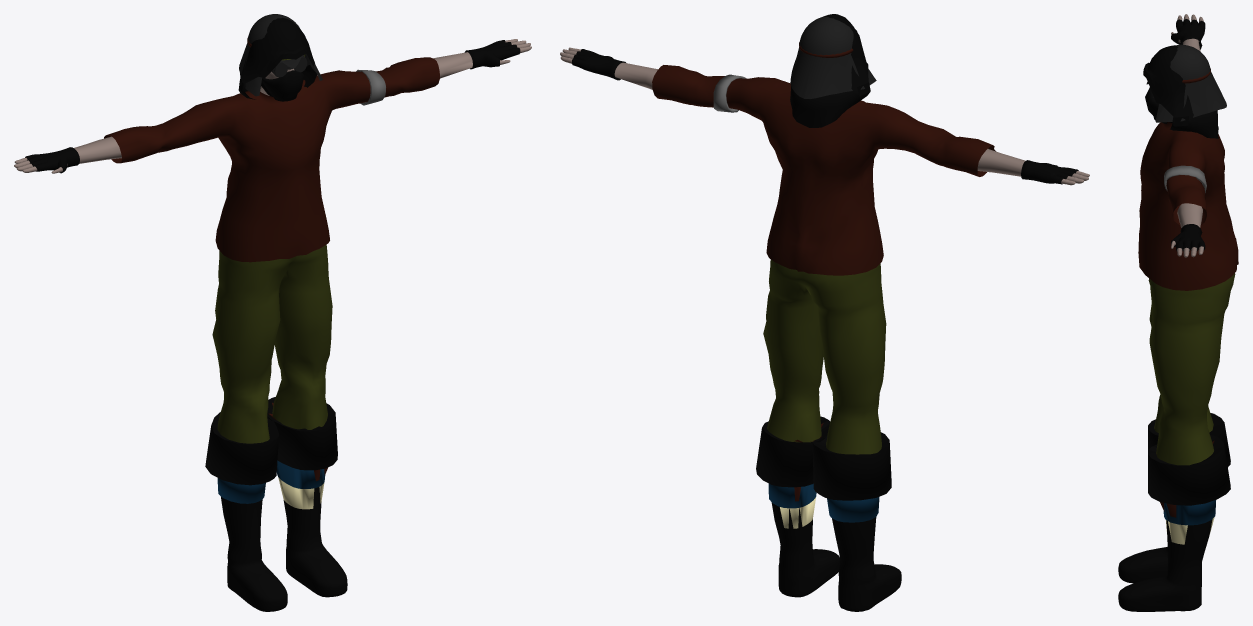
Rendered from character_model5_customization.fbx.
3 views of the same model, side by side, from view 1: azimuth 30°, elevation 25°; view 2: azimuth 150°, elevation 25°; view 3: azimuth 270°, elevation 25° (orthographic). The views are drawn at different scales.
Parts seen in each view (by area): view 1: Shirt, Pants, Boots, Boots.2, Hood, Boots.3, Body.001, Gloves, Hat.002, Mask; view 2: Shirt, Pants, Boots, Boots.2, Hat.002, Hood, Boots.3, Body.001, Gloves; view 3: Shirt, Pants, Boots, Boots.2, Hood, Hat.002, Boots.3, Gloves, Body.001, Shirt.001, Mask.
Part boxes in pixels (left/top/right/bottom): Shirt: left=104, top=57, right=439, bottom=262; Pants: left=212, top=244, right=332, bottom=443; Boots: left=221, top=487, right=347, bottom=611; Boots.2: left=205, top=397, right=337, bottom=485; Hood: left=238, top=17, right=316, bottom=99; Boots.3: left=217, top=460, right=325, bottom=509; Body.001: left=14, top=39, right=531, bottom=173; Gloves: left=25, top=40, right=520, bottom=173; Hat.002: left=239, top=14, right=322, bottom=96; Mask: left=261, top=70, right=304, bottom=101; Shirt: left=652, top=65, right=995, bottom=275; Pants: left=763, top=259, right=886, bottom=454; Boots: left=771, top=446, right=901, bottom=611; Boots.2: left=756, top=416, right=891, bottom=501; Hat.002: left=790, top=17, right=876, bottom=98; Hood: left=790, top=14, right=870, bottom=127; Boots.3: left=768, top=483, right=879, bottom=528; Body.001: left=560, top=47, right=1089, bottom=185; Gloves: left=572, top=49, right=1078, bottom=184; Shirt: left=1138, top=122, right=1238, bottom=290; Pants: left=1148, top=273, right=1235, bottom=465; Boots: left=1118, top=519, right=1212, bottom=611; Boots.2: left=1148, top=413, right=1230, bottom=517; Hood: left=1143, top=45, right=1218, bottom=138; Hat.002: left=1146, top=44, right=1226, bottom=122; Boots.3: left=1163, top=500, right=1215, bottom=544; Gloves: left=1171, top=19, right=1205, bottom=251; Body.001: left=1171, top=14, right=1203, bottom=257; Shirt.001: left=1164, top=165, right=1206, bottom=192; Mask: left=1145, top=87, right=1172, bottom=123.
Bounding box in the file's own units: 174 × 183 × 36.52.
